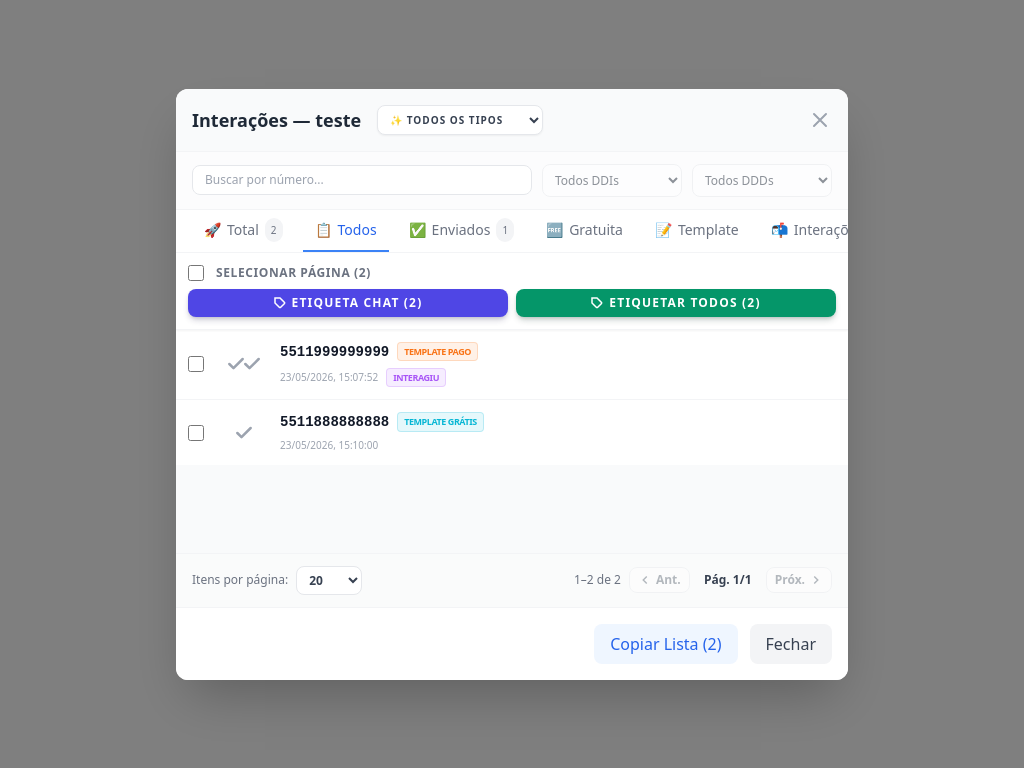
Test: ContactsModal › seleciona todos os contatos ao clicar no checkbox geral
Click the checkbox labelled "Selecionar Página (2)": (196, 272) [188, 264, 204, 280]
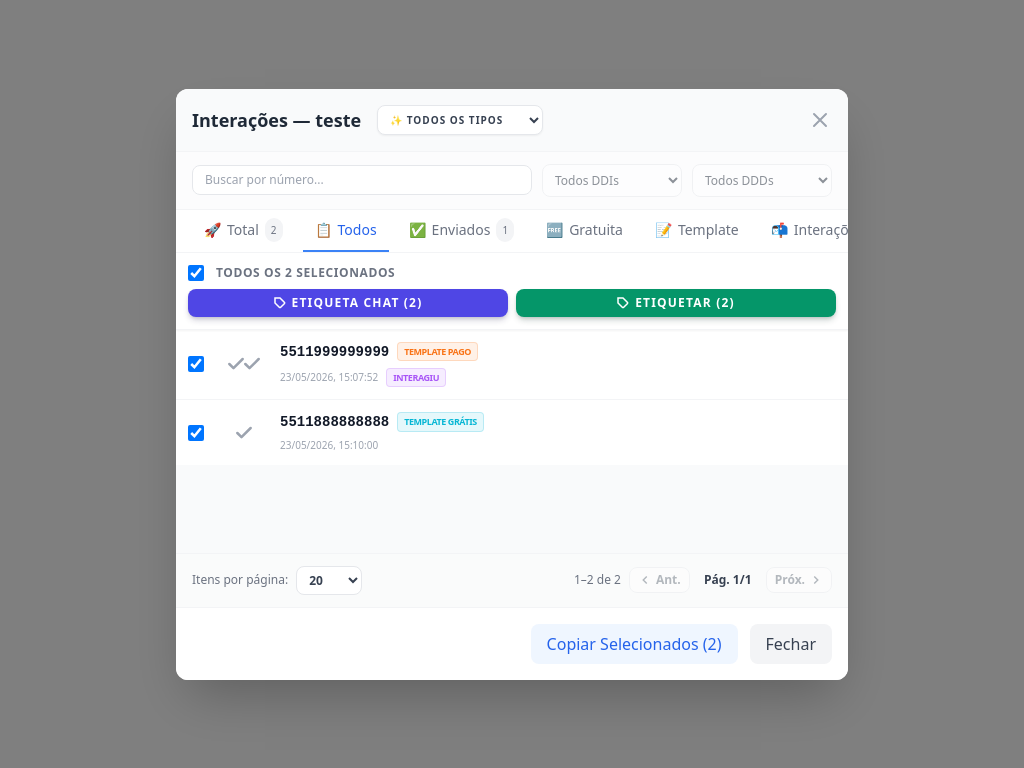
Expected: the button "Etiquetar (2)" is shown, [516, 288, 836, 316]
